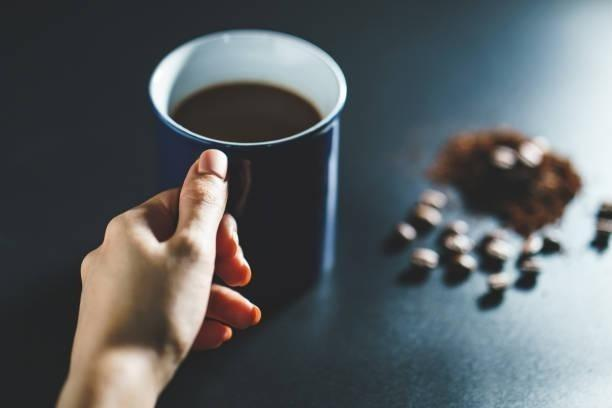cup-handle: (147, 27, 349, 297)
